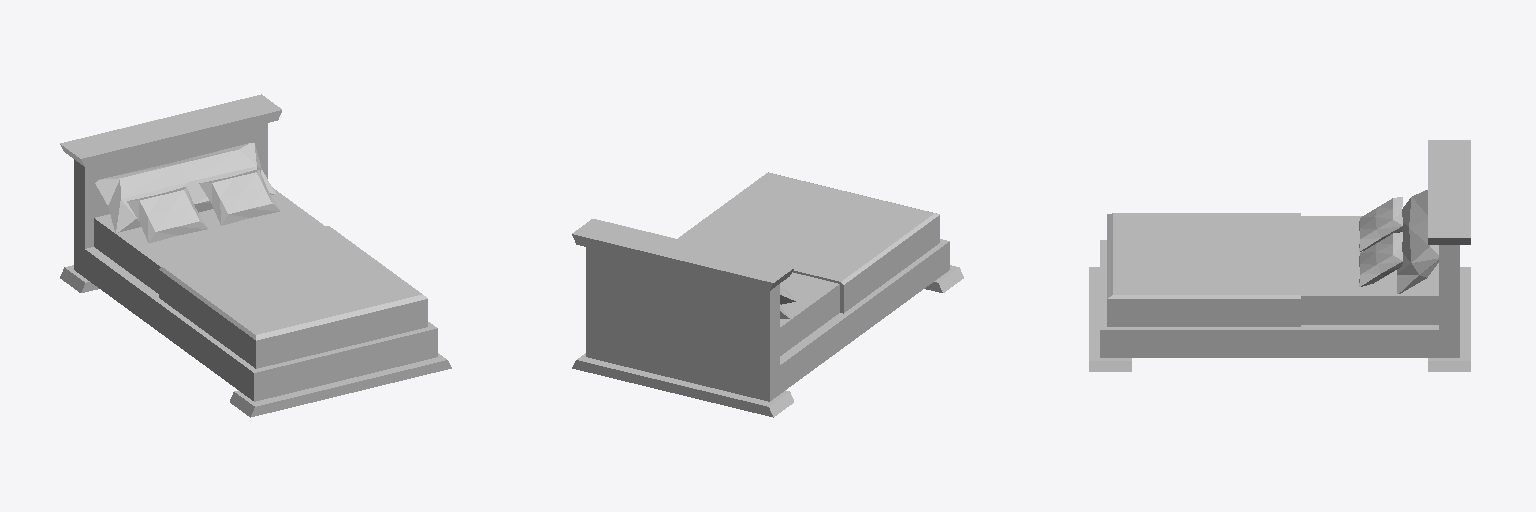
Rendered from Bed_02.obj.
The picture shows the model from 3 angles: view 1: azimuth 30°, elevation 25°; view 2: azimuth 150°, elevation 25°; view 3: azimuth 270°, elevation 25°; orthographic projection.
Parts seen in each view (by area): view 1: Plane.003, Plane.001, Plane.002, Plane.006, Cube.001, Plane.005, Plane.007, Cube.002, Cube; view 2: Plane.005, Plane.003, Plane.006, Plane.001, Plane.004, Plane.002; view 3: Plane.003, Plane.001, Plane.002, Plane.006, Cube.001, Plane.005, Cube.002, Plane.004, Plane.007, Cube.
Boxes of the visible parts, x1=… form: Plane.003: x1=159, y1=226, x2=427, y2=368; Plane.001: x1=85, y1=247, x2=437, y2=401; Plane.002: x1=94, y1=187, x2=325, y2=293; Plane.006: x1=60, y1=94, x2=281, y2=167; Cube.001: x1=95, y1=143, x2=275, y2=232; Plane.005: x1=74, y1=123, x2=267, y2=277; Plane.007: x1=230, y1=353, x2=451, y2=417; Cube.002: x1=199, y1=169, x2=280, y2=225; Cube: x1=127, y1=187, x2=207, y2=242; Plane.005: x1=586, y1=247, x2=779, y2=401; Plane.003: x1=678, y1=172, x2=939, y2=313; Plane.006: x1=572, y1=219, x2=793, y2=291; Plane.001: x1=780, y1=239, x2=949, y2=393; Plane.004: x1=572, y1=353, x2=793, y2=417; Plane.002: x1=780, y1=272, x2=839, y2=355; Plane.003: x1=1107, y1=213, x2=1300, y2=326; Plane.001: x1=1100, y1=240, x2=1438, y2=357; Plane.002: x1=1301, y1=216, x2=1438, y2=324; Plane.006: x1=1428, y1=140, x2=1470, y2=244; Cube.001: x1=1397, y1=190, x2=1438, y2=293; Plane.005: x1=1439, y1=245, x2=1459, y2=357; Cube.002: x1=1359, y1=232, x2=1402, y2=286; Plane.004: x1=1428, y1=267, x2=1470, y2=371; Plane.007: x1=1089, y1=267, x2=1131, y2=371; Cube: x1=1359, y1=197, x2=1402, y2=251.
Bounding box in the file's own units: 22 × 14 × 36.